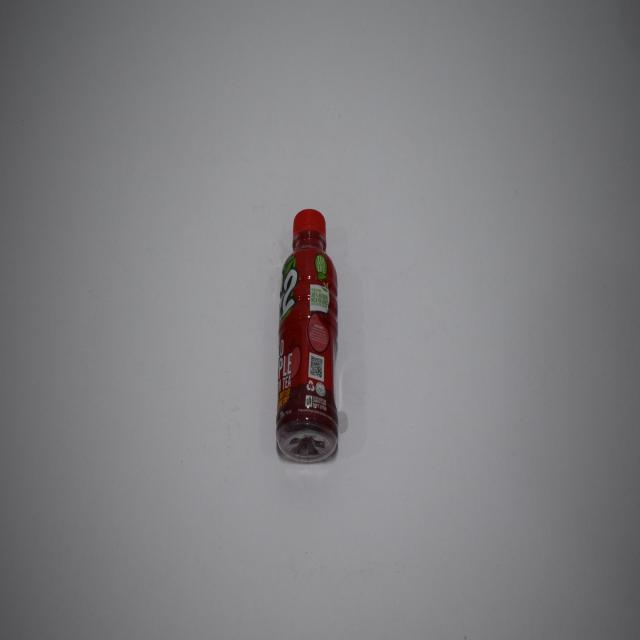bottle: (273, 206, 347, 477)
